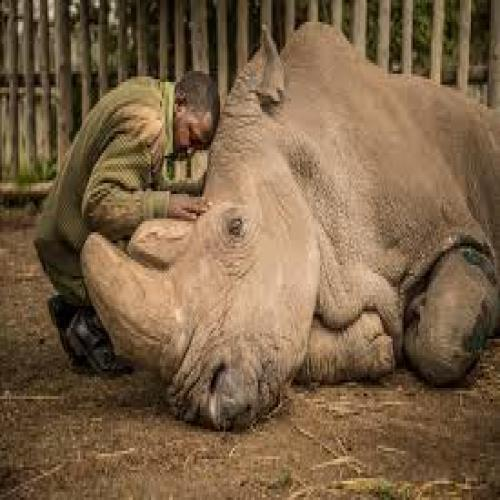rhino-endangered: (91, 16, 500, 421)
